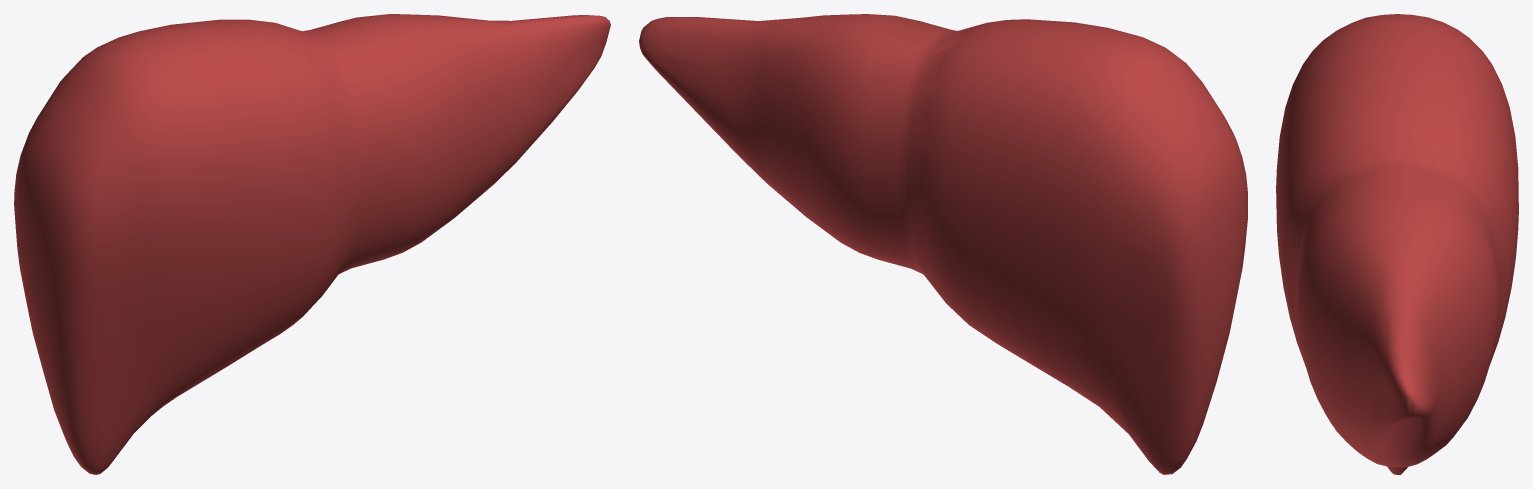
Rendered from PRP_Liver_lod.glb.
3 renders of one model, left to right at view 1: azimuth 30°, elevation 25°; view 2: azimuth 150°, elevation 25°; view 3: azimuth 270°, elevation 25°, orthographic. The views are drawn at different scales.
Parts seen in each view (by area): view 1: pCube1_lambert2_0; view 2: pCube1_lambert2_0; view 3: pCube1_lambert2_0.
Boxes of the visible parts, x1,y1,x2,y2 form: pCube1_lambert2_0: (14, 14, 610, 474); pCube1_lambert2_0: (639, 14, 1247, 474); pCube1_lambert2_0: (1276, 14, 1518, 474).
Bounding box in the file's own units: 4.18 × 2.88 × 1.32.
